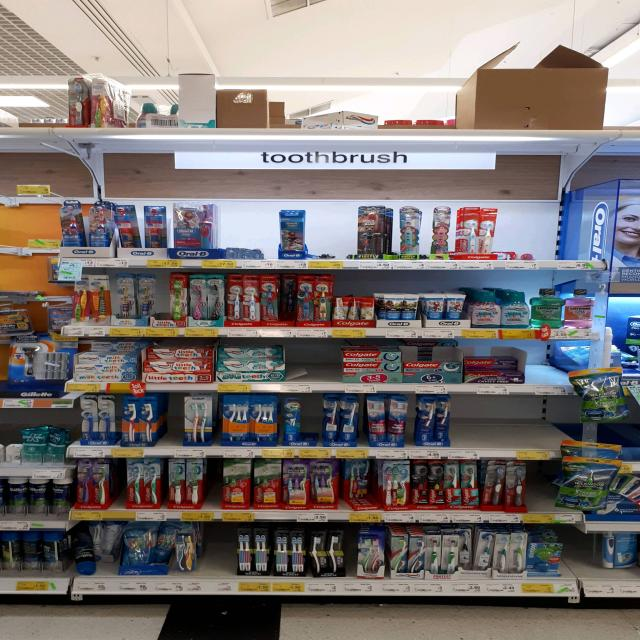empty: (455, 399, 566, 451), (531, 195, 586, 269), (305, 193, 358, 265), (283, 335, 345, 386), (520, 457, 564, 522), (527, 337, 577, 390), (554, 527, 599, 582), (150, 267, 179, 332), (203, 527, 240, 576), (155, 397, 186, 455)
